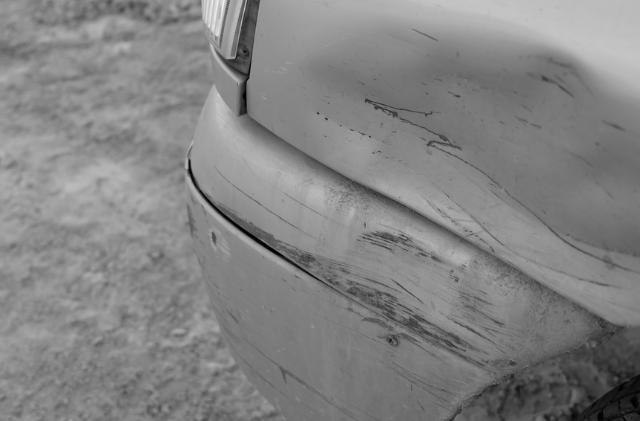Bumper: (108, 122, 624, 421)
Fender: (266, 0, 640, 291)
